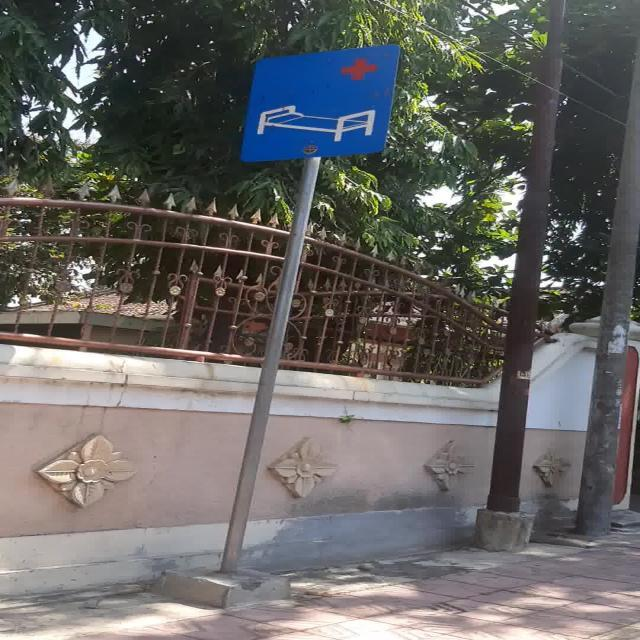Rumah Sakit: (240, 44, 400, 162)
